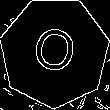O_S: (28, 23, 81, 82)
